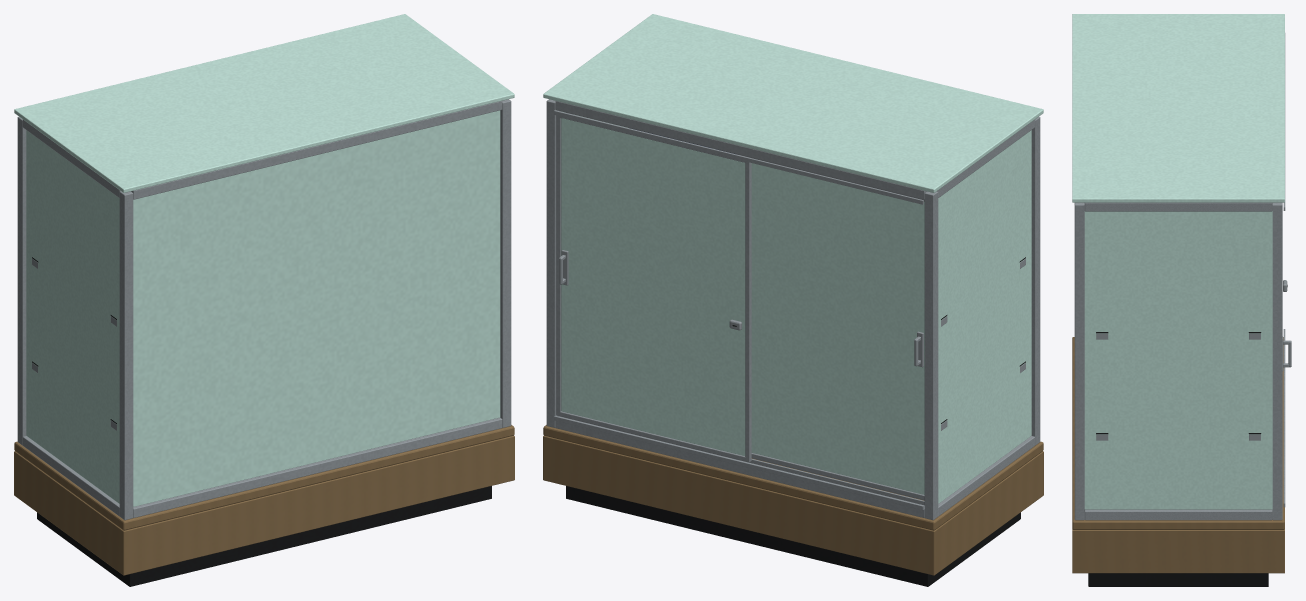
Rendered from queue-vitrine.glb.
3 views of the same model, side by side, from view 1: azimuth 30°, elevation 25°; view 2: azimuth 150°, elevation 25°; view 3: azimuth 270°, elevation 25° (orthographic). The views are drawn at different scales.
Parts seen in each view (by area): view 1: CustomerFrontGlass, GlassTop, SideGlass, VitrineLaminate, VitrineAnodizedAluminum, VitrineGasket; view 2: RearDoorGlass_1, RearDoorGlass_0, GlassTop, VitrineAnodizedAluminum, SideGlass, VitrineLaminate, VitrineGasket; view 3: SideGlass.001, GlassTop, VitrineAnodizedAluminum, VitrineLaminate, VitrineGasket.
Boxes of the visible parts, bbox=[...] form: CustomerFrontGlass: bbox=[133, 110, 500, 506]; GlassTop: bbox=[14, 14, 514, 192]; SideGlass: bbox=[26, 130, 119, 503]; VitrineLaminate: bbox=[14, 425, 514, 575]; VitrineAnodizedAluminum: bbox=[17, 99, 511, 520]; VitrineGasket: bbox=[32, 257, 491, 586]; RearDoorGlass_1: bbox=[561, 118, 745, 455]; RearDoorGlass_0: bbox=[751, 163, 924, 494]; GlassTop: bbox=[543, 14, 1043, 192]; VitrineAnodizedAluminum: bbox=[546, 99, 1040, 520]; SideGlass: bbox=[938, 130, 1031, 503]; VitrineLaminate: bbox=[543, 425, 1043, 575]; VitrineGasket: bbox=[566, 257, 1025, 586]; SideGlass.001: bbox=[1084, 211, 1272, 509]; GlassTop: bbox=[1072, 14, 1284, 202]; VitrineAnodizedAluminum: bbox=[1074, 33, 1291, 520]; VitrineLaminate: bbox=[1072, 337, 1284, 573]; VitrineGasket: bbox=[1088, 285, 1287, 586].
Size of the model in its own units: 3.5 by 3.48 by 1.75.
Materials: 6 (6 with a texture image).
